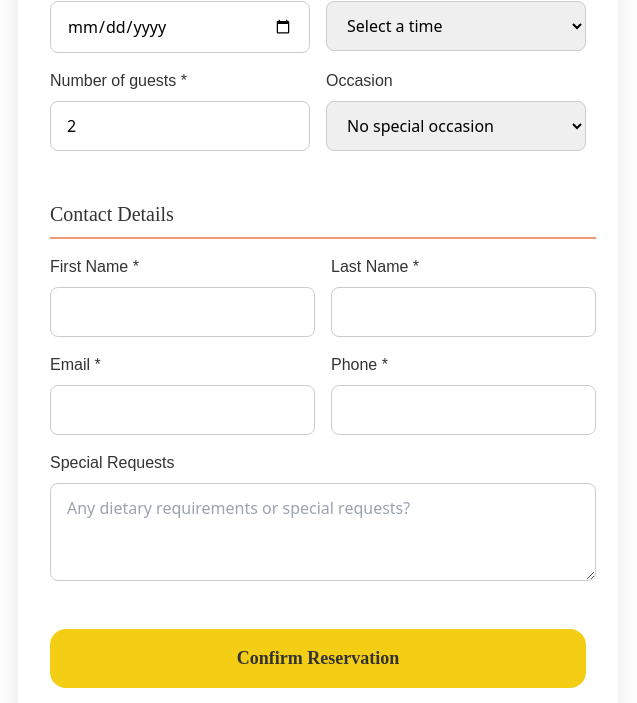
BookingForm validation - invalid states › shows error when submitting empty form
(page scrolled)
Click the button "Confirm Reservation". click: (318, 658)
box: x1=50 y1=629 x2=586 y2=688
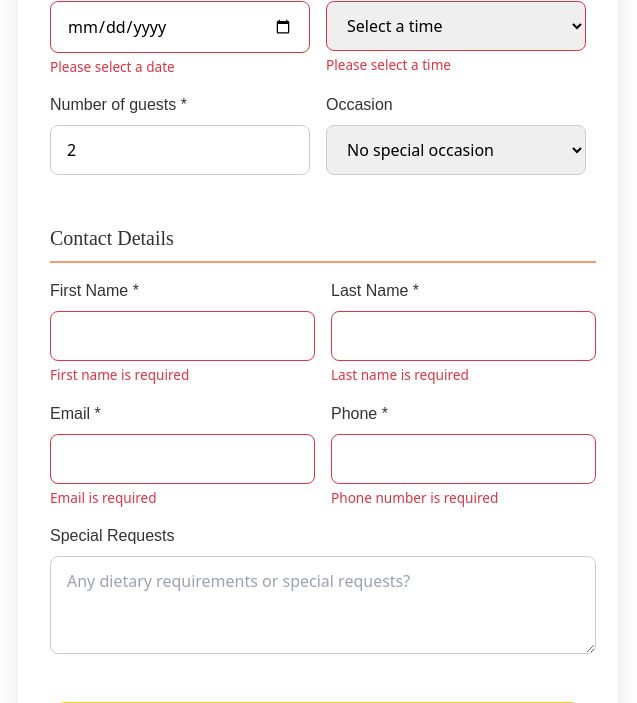
Now the text "Please select a date" is shown, box x1=50 y1=57 x2=175 y2=76
